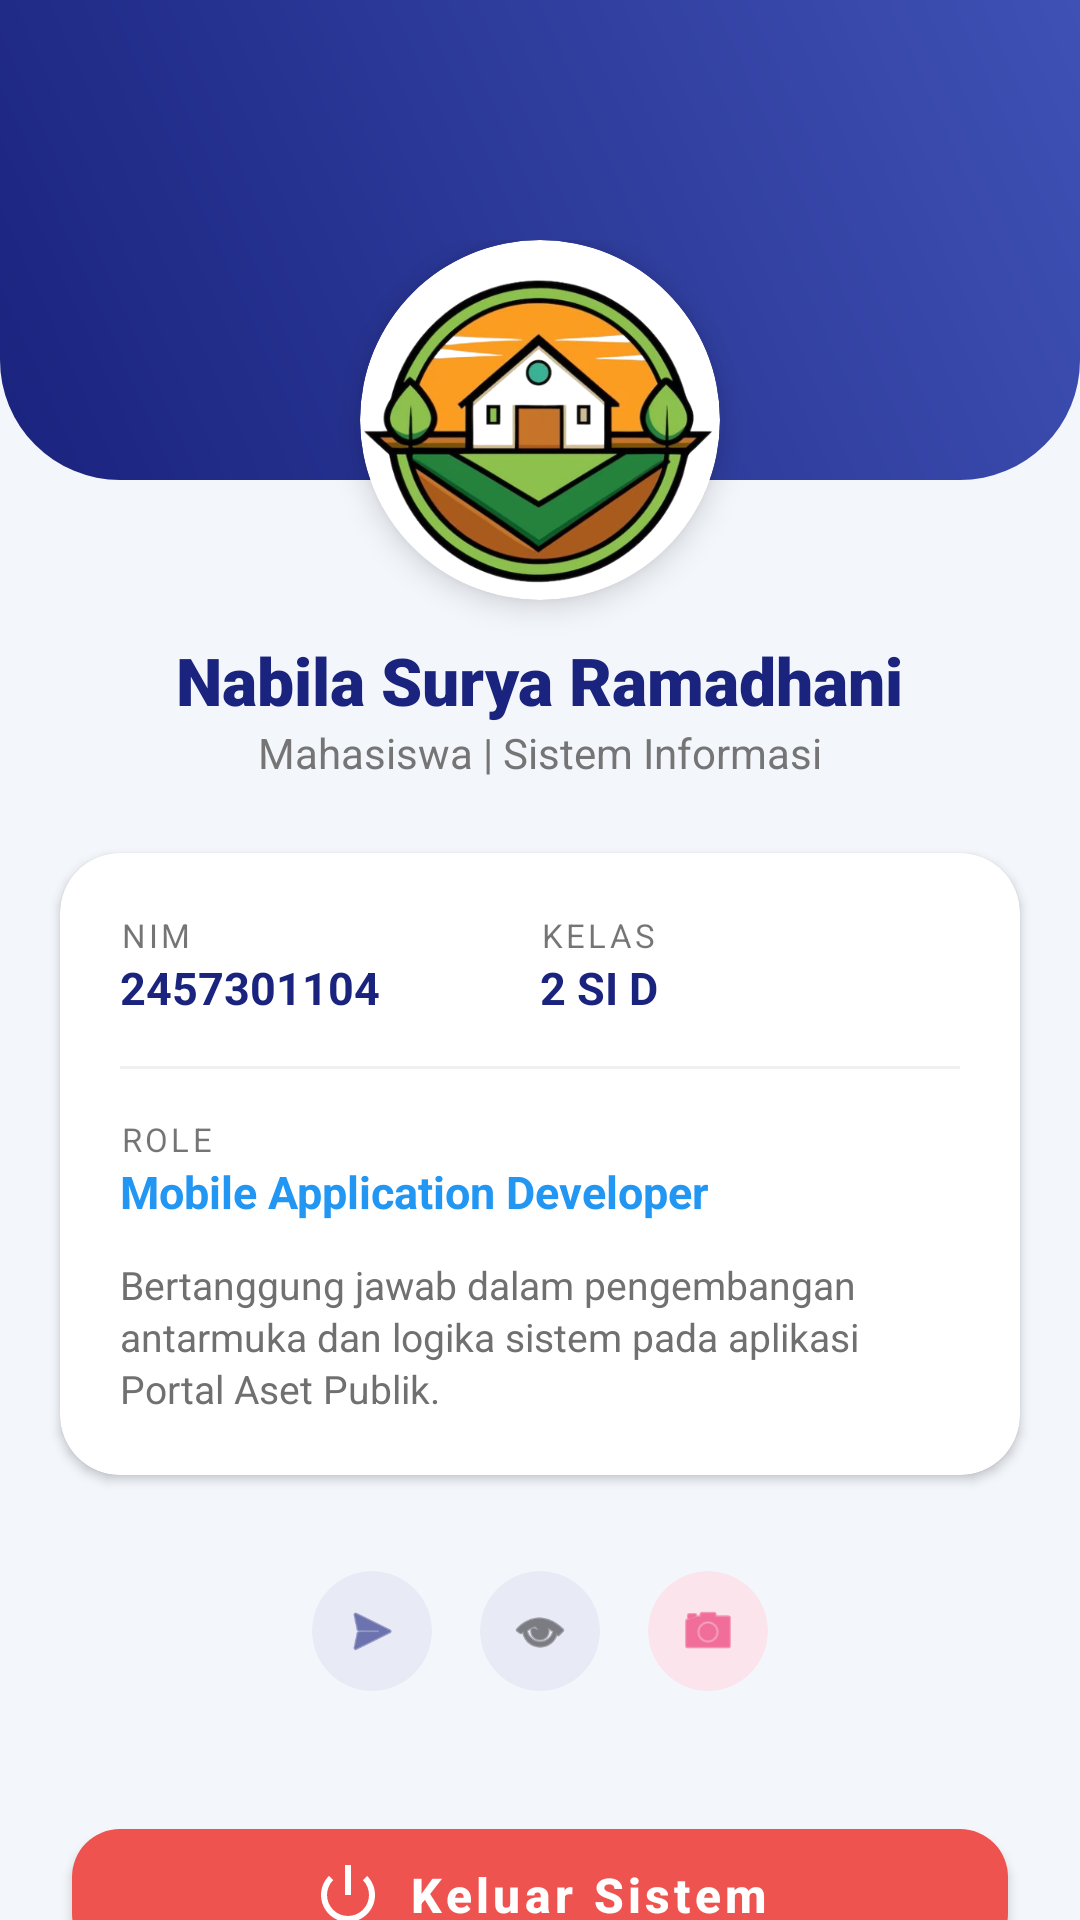

Icons on this 1080*1920 Android screen, each with the point to tap as point (x, y):
camera: point (708, 1630)
send: point (372, 1631)
view: point (540, 1632)
